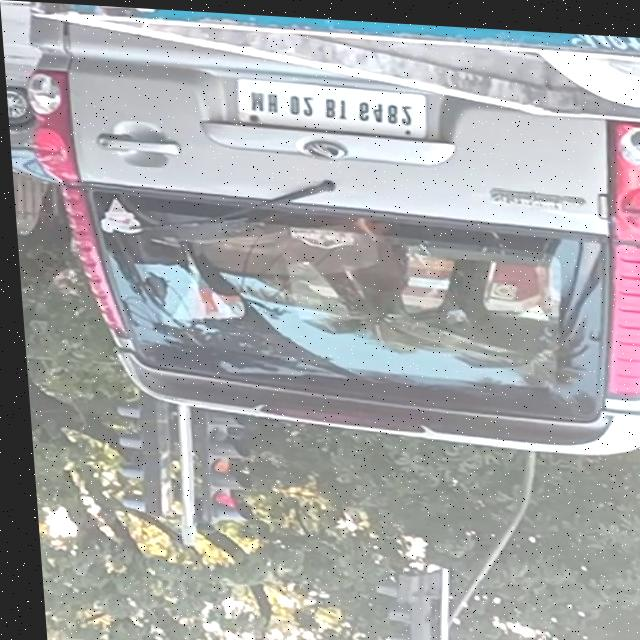plate: (232, 76, 429, 136)
